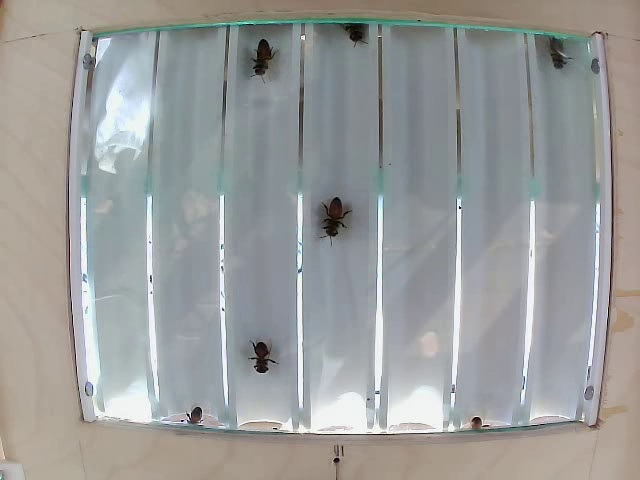bee: (321, 192, 356, 242), (246, 39, 279, 87), (245, 336, 278, 377), (540, 26, 571, 68), (335, 20, 375, 50)
